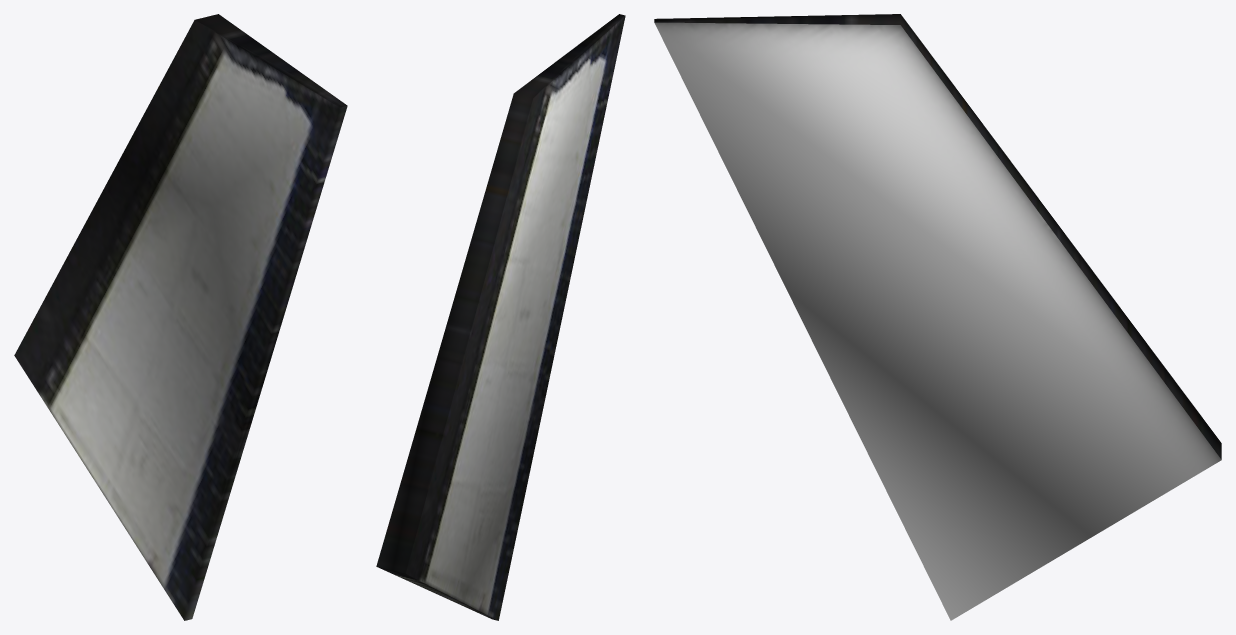
File: tailBreakUp.fbx
3 views of the same model, side by side, from view 1: azimuth 30°, elevation 25°; view 2: azimuth 150°, elevation 25°; view 3: azimuth 270°, elevation 25° (orthographic). The views are drawn at different scales.
Parts seen in each view (by area): view 1: tailBreakUp; view 2: tailBreakUp; view 3: tailBreakUp.
Part boxes in pixels (x1,y1,x2,y2): tailBreakUp: [14, 14, 347, 620]; tailBreakUp: [376, 14, 625, 620]; tailBreakUp: [654, 14, 1221, 620].
Bounding box in the file's own units: 0.7909 × 13.12 × 11.27.
